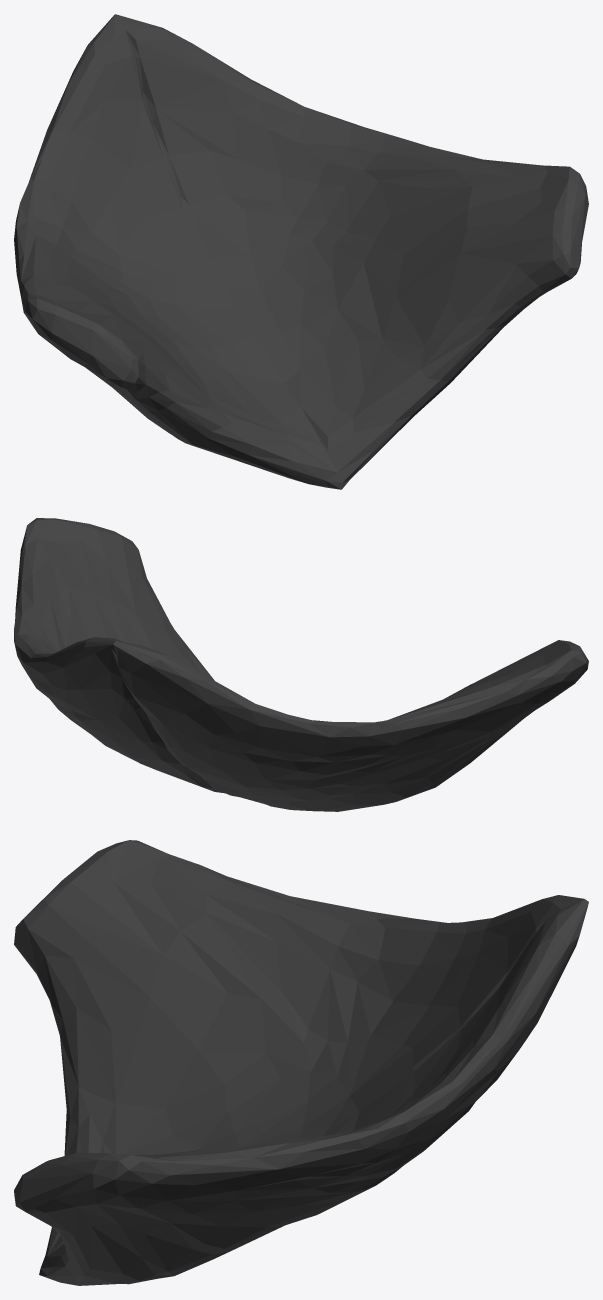
Rendered from m_coccygeus.glb.
3 views of the same model, one above another, from view 1: azimuth 30°, elevation 25°; view 2: azimuth 150°, elevation 25°; view 3: azimuth 270°, elevation 25° (orthographic). The views are drawn at different scales.
Visible parts, largest first — view 1: m_coccygeus; view 2: m_coccygeus; view 3: m_coccygeus.
Part boxes in pixels (x1,y1,x2,y2): m_coccygeus: (14, 14, 588, 489); m_coccygeus: (14, 518, 588, 811); m_coccygeus: (14, 840, 588, 1285).
Bounding box in the file's own units: 0.0025 × 0.00136 × 0.00186.
Materials: 1 (1 with a texture image).
